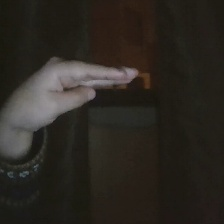H: (1, 51, 157, 147)
